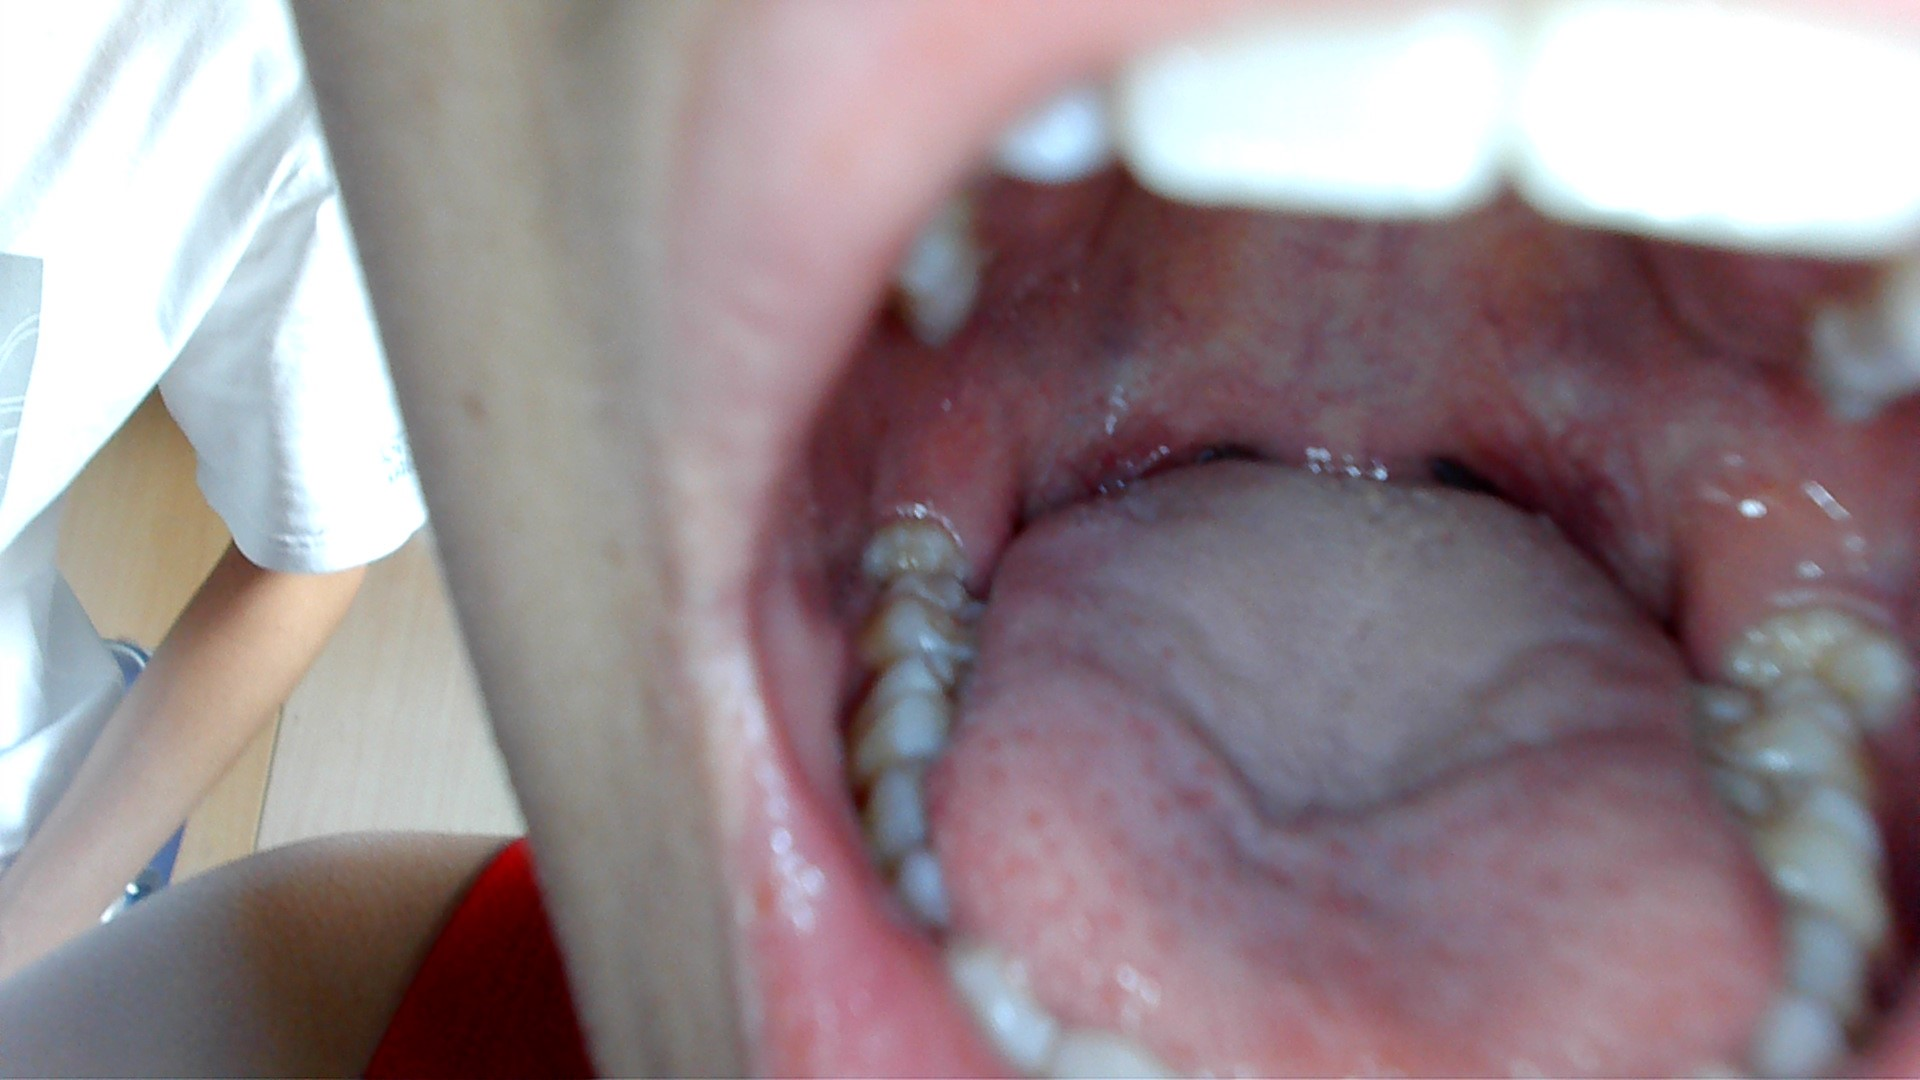throat: (1474, 404, 1630, 560), (1069, 368, 1234, 500)
